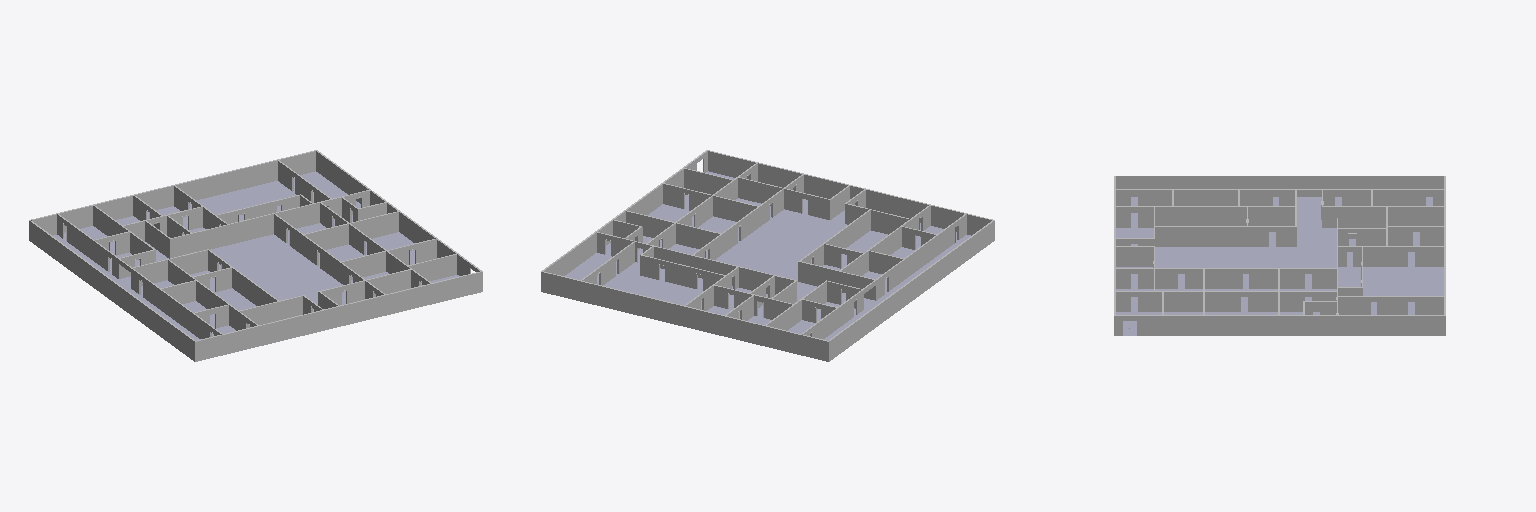
Rendered from CasaClaro2.obj.
The picture shows the model from 3 angles: view 1: azimuth 30°, elevation 25°; view 2: azimuth 150°, elevation 25°; view 3: azimuth 270°, elevation 25°; orthographic projection.
Parts seen in each view (by area): view 1: Wall_Wall.003, Plane.001, Wall.009_Wall.013, Wall.002_Wall.006, Wall.011_Wall.016, Wall.005_Wall.001, Wall.008_Wall.011, Wall.026_Wall.004, Wall.006_Wall.010, Wall.015_Wall.020, Wall.003_Wall.007, Wall.021_Wall.026 (+10 smaller); view 2: Wall_Wall.003, Plane.001, Wall.002_Wall.006, Wall.009_Wall.013, Wall.008_Wall.011, Wall.005_Wall.001, Wall.026_Wall.004, Wall.011_Wall.016, Wall.015_Wall.020, Wall.006_Wall.010, Wall.003_Wall.007, Wall.014_Wall.019 (+9 smaller); view 3: Wall_Wall.003, Plane.001, Wall.002_Wall.006, Wall.009_Wall.013, Wall.011_Wall.016, Wall.026_Wall.004, Wall.005_Wall.001, Wall.014_Wall.019, Wall.016_Wall.021, Wall.008_Wall.011, Wall.003_Wall.007, Wall.007_Wall.002 (+6 smaller).
Part boxes in pixels (left/top/right/bottom): Wall_Wall.003: left=29, top=150, right=482, bottom=361; Plane.001: left=53, top=171, right=458, bottom=340; Wall.009_Wall.013: left=169, top=213, right=364, bottom=284; Wall.002_Wall.006: left=56, top=213, right=222, bottom=338; Wall.011_Wall.016: left=275, top=202, right=411, bottom=273; Wall.005_Wall.001: left=133, top=259, right=230, bottom=327; Wall.008_Wall.011: left=318, top=269, right=432, bottom=326; Wall.026_Wall.004: left=169, top=249, right=278, bottom=305; Wall.006_Wall.010: left=240, top=295, right=324, bottom=330; Wall.015_Wall.020: left=214, top=194, right=312, bottom=227; Wall.003_Wall.007: left=93, top=204, right=130, bottom=254; Wall.021_Wall.026: left=350, top=211, right=398, bottom=238; Wall_Wall.003: left=541, top=150, right=994, bottom=361; Plane.001: left=565, top=171, right=970, bottom=340; Wall.002_Wall.006: left=800, top=213, right=967, bottom=355; Wall.009_Wall.013: left=691, top=189, right=796, bottom=294; Wall.008_Wall.011: left=738, top=162, right=849, bottom=219; Wall.005_Wall.001: left=839, top=226, right=936, bottom=299; Wall.026_Wall.004: left=798, top=210, right=870, bottom=286; Wall.011_Wall.016: left=645, top=177, right=737, bottom=268; Wall.015_Wall.020: left=640, top=246, right=738, bottom=290; Wall.006_Wall.010: left=845, top=189, right=909, bottom=234; Wall.003_Wall.007: left=764, top=299, right=836, bottom=342; Wall.014_Wall.019: left=581, top=241, right=635, bottom=285; Wall_Wall.003: left=1114, top=176, right=1445, bottom=335; Plane.001: left=1116, top=197, right=1443, bottom=335; Wall.002_Wall.006: left=1114, top=189, right=1445, bottom=205; Wall.009_Wall.013: left=1155, top=218, right=1337, bottom=288; Wall.011_Wall.016: left=1155, top=269, right=1337, bottom=311; Wall.026_Wall.004: left=1155, top=207, right=1296, bottom=246; Wall.005_Wall.001: left=1172, top=190, right=1296, bottom=225; Wall.014_Wall.019: left=1337, top=296, right=1443, bottom=314; Wall.016_Wall.021: left=1363, top=246, right=1443, bottom=266; Wall.008_Wall.011: left=1114, top=246, right=1154, bottom=311; Wall.003_Wall.007: left=1371, top=190, right=1445, bottom=225; Wall.007_Wall.002: left=1114, top=206, right=1171, bottom=227.
Size of the model in its own units: 40 by 2.7 by 40.